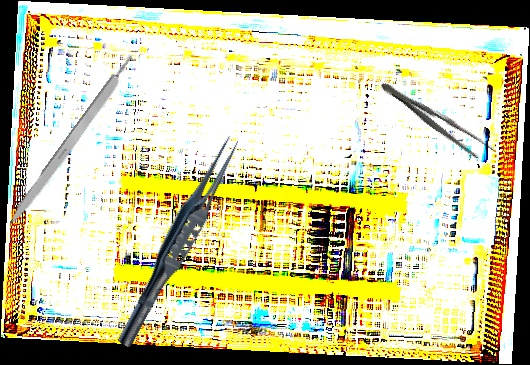Dressing Forceps: (374, 75, 499, 167)
Scalpel Handle: (6, 53, 139, 229)
Tissue Forceps: (112, 130, 246, 353)
